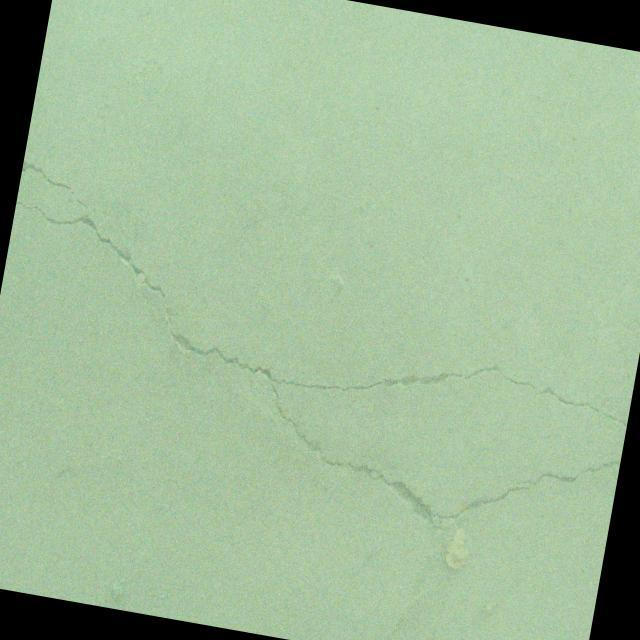crack: (0, 158, 640, 559)
